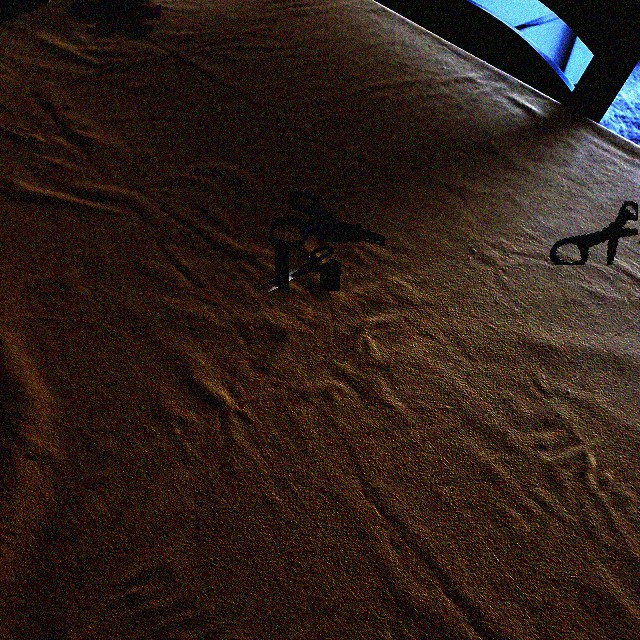scissors: (268, 190, 385, 248), (549, 201, 638, 265), (260, 246, 341, 292)
